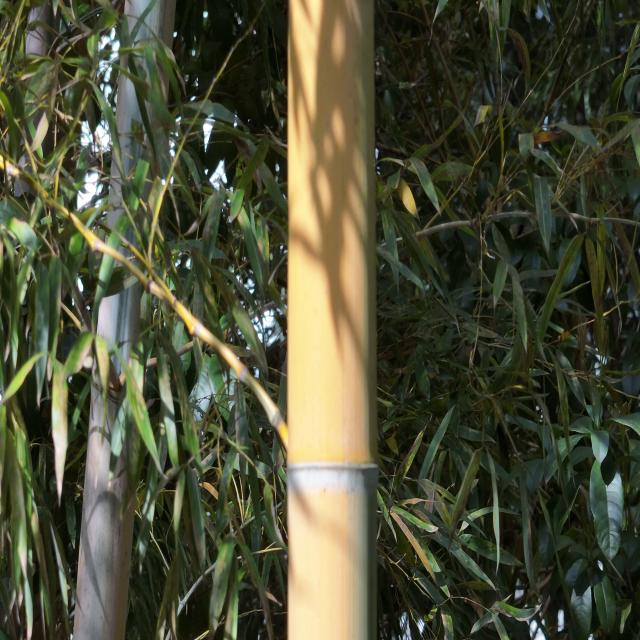Bamboo-shoots: (288, 0, 377, 640)
